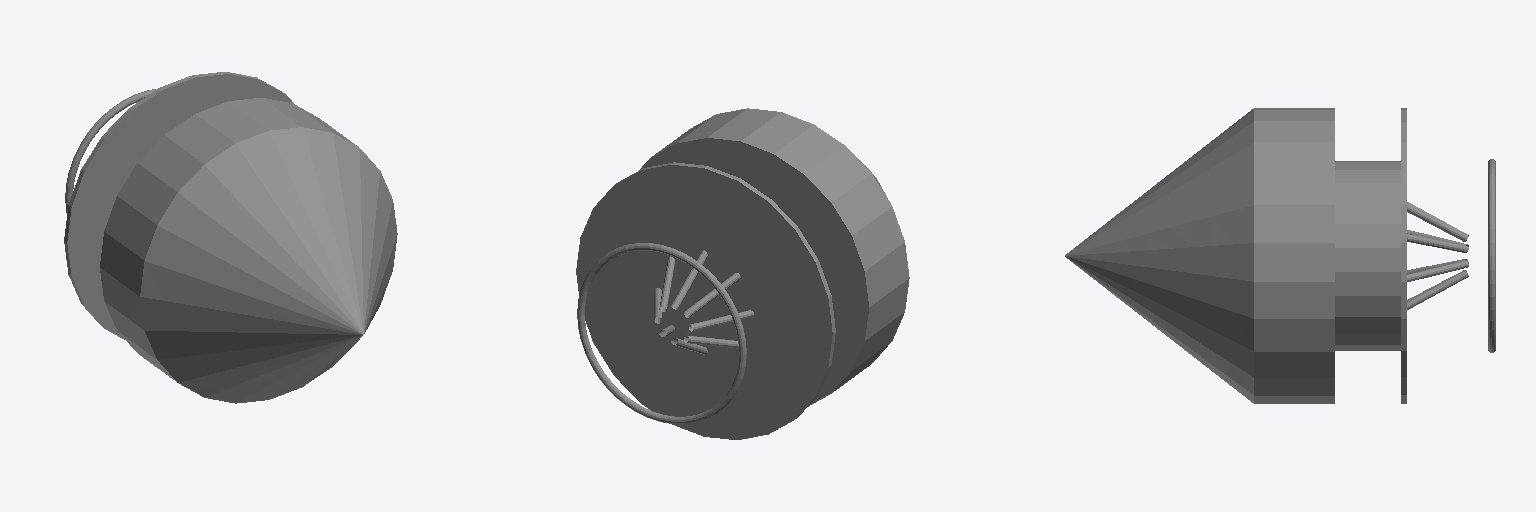
Rendered from UFO_Bmain.obj.
The picture shows the model from 3 angles: view 1: azimuth 30°, elevation 25°; view 2: azimuth 150°, elevation 25°; view 3: azimuth 270°, elevation 25°; orthographic projection.
Parts seen in each view (by area): view 1: UFO_Bmain, UFO_Ring_TOP; view 2: UFO_Bmain, UFO_Ring_TOP, UFO_BAR; view 3: UFO_Bmain, UFO_BAR, UFO_Ring_TOP.
Part boxes in pixels (bbox=[...]): UFO_Bmain: bbox=[64, 72, 397, 403]; UFO_Ring_TOP: bbox=[65, 89, 156, 212]; UFO_Bmain: bbox=[576, 108, 909, 439]; UFO_Ring_TOP: bbox=[577, 243, 746, 423]; UFO_BAR: bbox=[654, 250, 753, 354]; UFO_Bmain: bbox=[1065, 108, 1406, 403]; UFO_BAR: bbox=[1407, 202, 1468, 309]; UFO_Ring_TOP: bbox=[1488, 159, 1495, 352].
Bounding box in the file's own units: 0.5533 × 0.5532 × 0.8031.